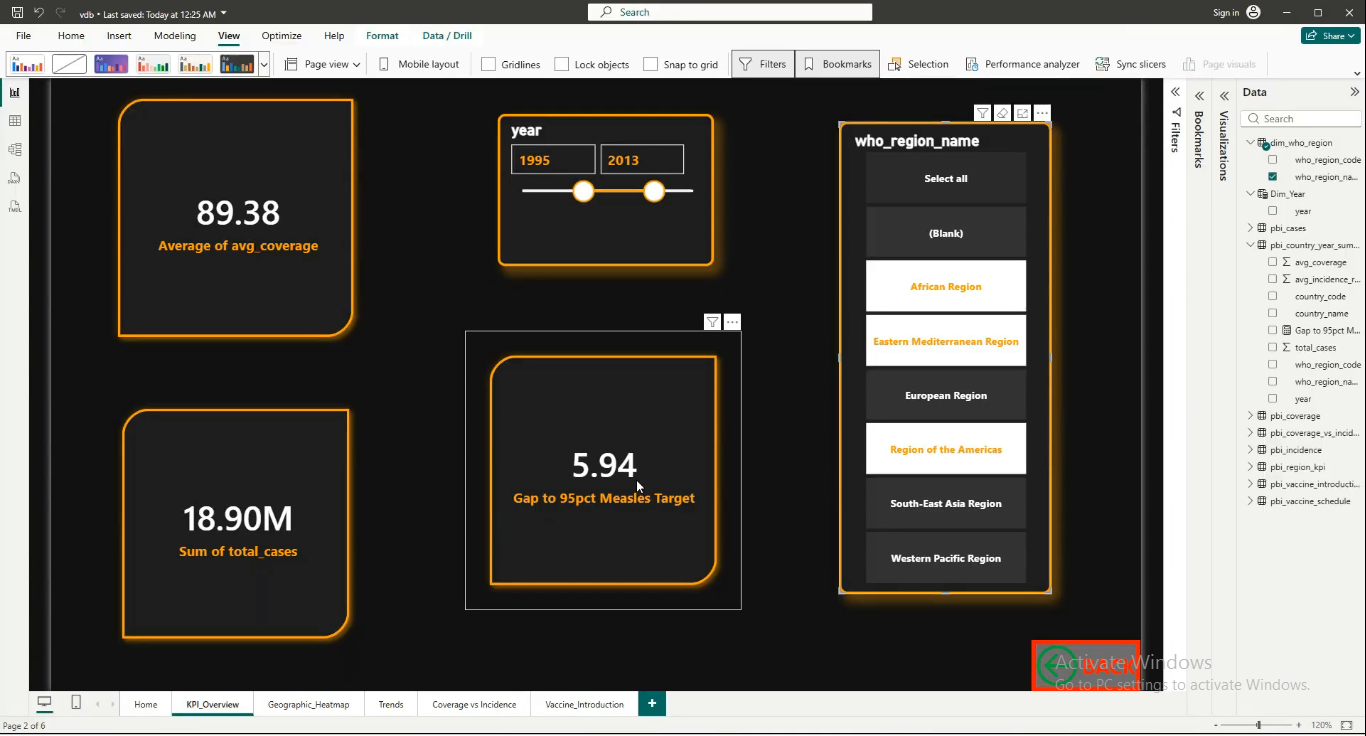

The page's visual inventory and layout, read from the dashboard file:
{"tool":"powerbi","page":{"name":"KPI_Overview","canvas":[1280,720],"ordinal":1},"visuals":[{"type":"cardVisual","fields":{"Data":["Avg(pbi_country_year_summary.avg_coverage)"]},"box":[54.4,0,325.7,328.7],"z":0},{"type":"cardVisual","fields":{"Data":["Sum(pbi_country_year_summary.total_cases)"]},"box":[54.4,359.6,325.7,328],"z":1000},{"type":"cardVisual","fields":{"Data":["pbi_country_year_summary.Gap to 95pct Measles Target"]},"box":[485.9,296.9,325,328],"z":2000},{"type":"slicer","fields":{"Values":["Dim_Year.year"]},"box":[524.9,42.1,253.7,178.7],"z":3000},{"type":"slicer","fields":{"Values":["dim_who_region.who_region_name"]},"box":[925.6,51.4,250,554.6],"z":4000},{"type":"actionButton","box":[1152.2,659.7,127.8,60],"z":5000}]}

Visuals, with their boxes on the page's 1280x720 design canvas (x1, y1, x2, y2). These are canvas units, not pixel positions in the 1366x736 screenshot, which may show the page scaled, cropped or inside an application window:
cardVisual - Avg(pbi_country_year_summary.avg_coverage): x1=54 y1=0 x2=380 y2=329
cardVisual - Sum(pbi_country_year_summary.total_cases): x1=54 y1=360 x2=380 y2=688
cardVisual - pbi_country_year_summary.Gap to 95pct Measles Target: x1=486 y1=297 x2=811 y2=625
slicer - Dim_Year.year: x1=525 y1=42 x2=779 y2=221
slicer - dim_who_region.who_region_name: x1=926 y1=51 x2=1176 y2=606
actionButton: x1=1152 y1=660 x2=1280 y2=720
